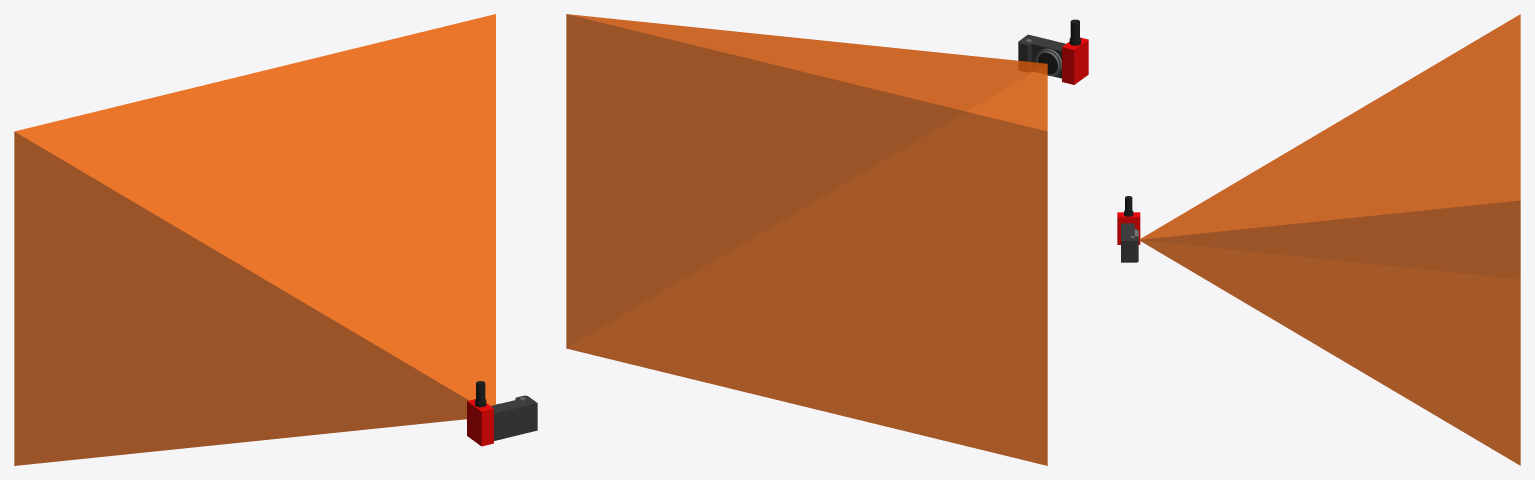
The model's file is DrobitOrange.dae.
3 views of the same model, side by side, from view 1: azimuth 30°, elevation 25°; view 2: azimuth 150°, elevation 25°; view 3: azimuth 270°, elevation 25° (orthographic). The views are drawn at different scales.
Visible parts, largest first — view 1: group_10, group_7, group_3; view 2: group_10, group_3, group_7; view 3: group_10, group_7, group_3.
Part boxes in pixels (x1=…): group_10: x1=14, y1=14, x2=495, y2=465; group_7: x1=491, y1=395, x2=537, y2=440; group_3: x1=467, y1=399, x2=493, y2=446; group_10: x1=566, y1=14, x2=1047, y2=465; group_3: x1=1062, y1=37, x2=1088, y2=84; group_7: x1=1018, y1=34, x2=1065, y2=78; group_10: x1=1139, y1=14, x2=1520, y2=465; group_7: x1=1121, y1=223, x2=1138, y2=262; group_3: x1=1117, y1=212, x2=1140, y2=244.
Size of the model in its own units: 45.46 by 41.56 by 30.18.
